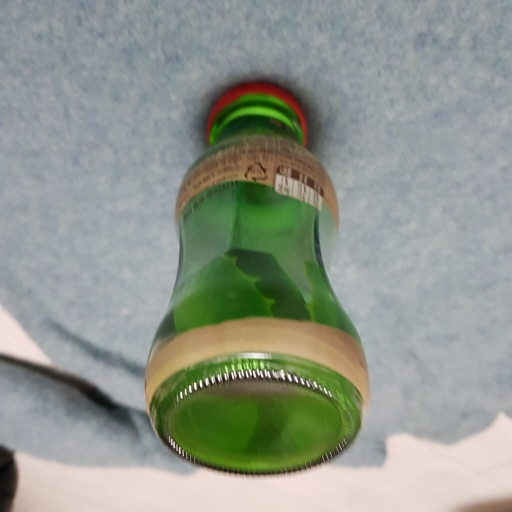Glass_4: (143, 78, 368, 473)
